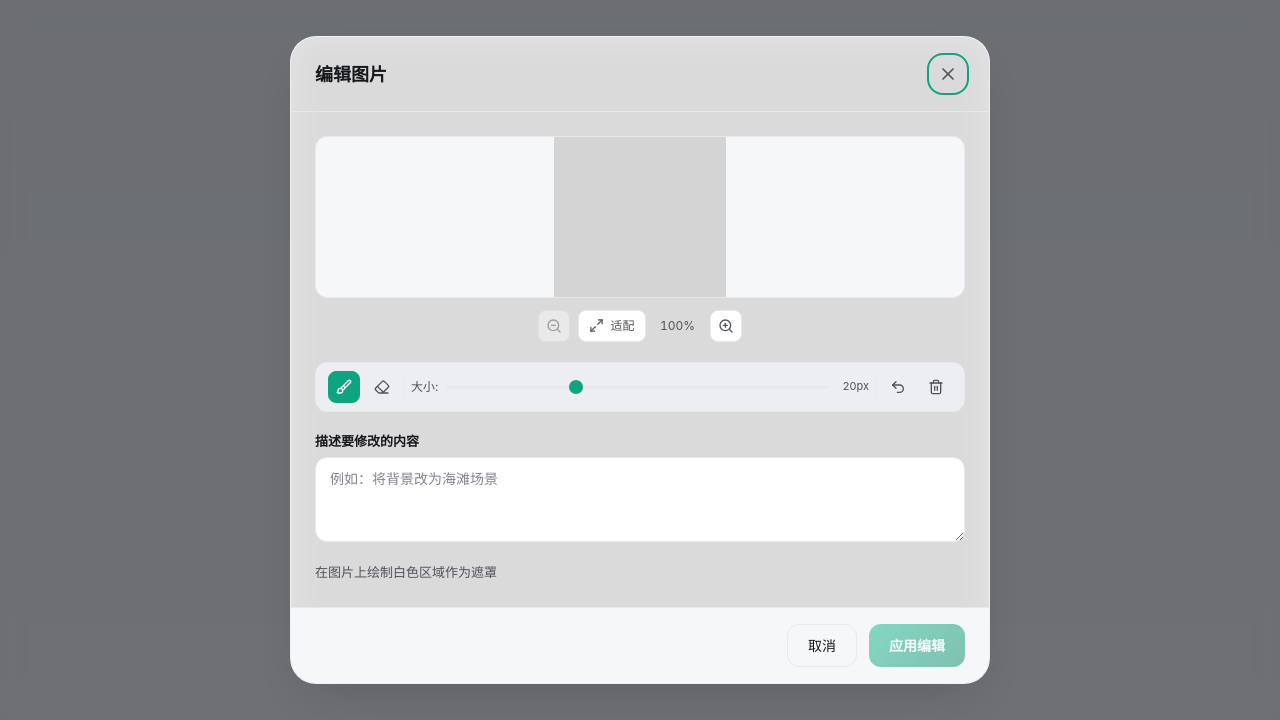
Test: ImageEditDialog image sizing › resets zoom to the fitted view
Click the button titled "放大" at (726, 326), box [710, 310, 742, 342]
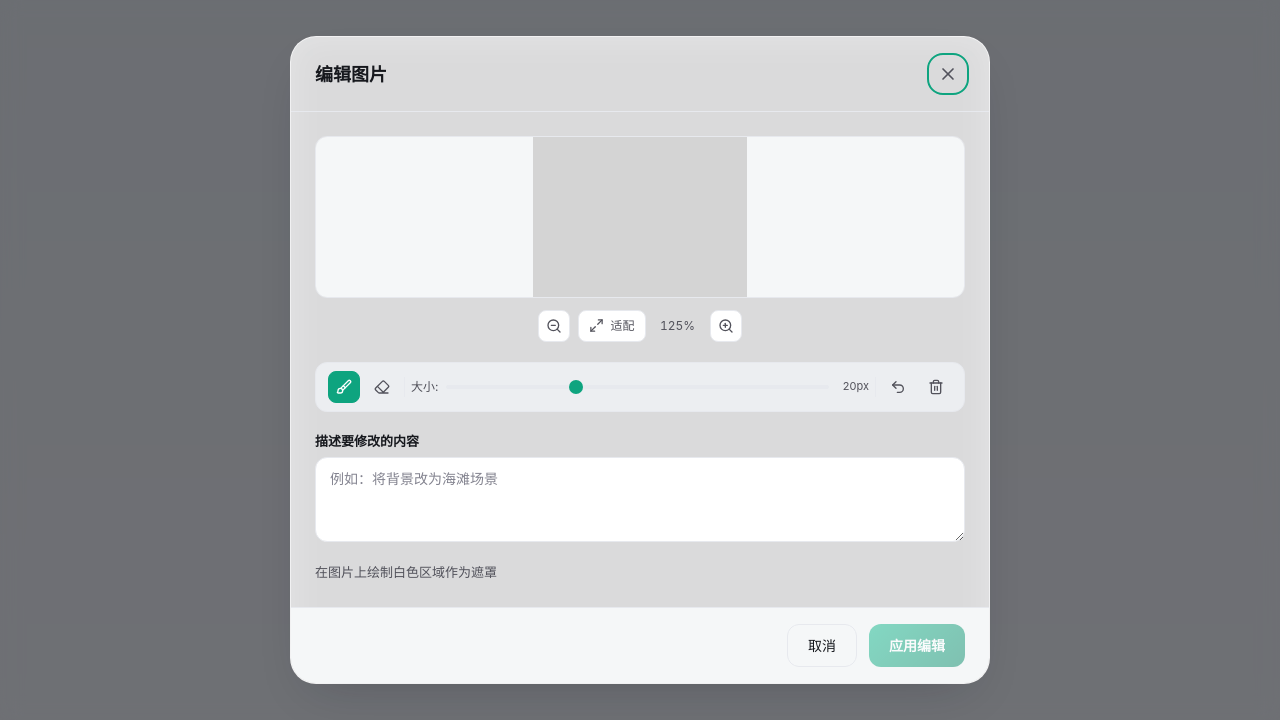
Click the button with class "zoom-fit-btn" at (612, 326), box [578, 310, 646, 342]
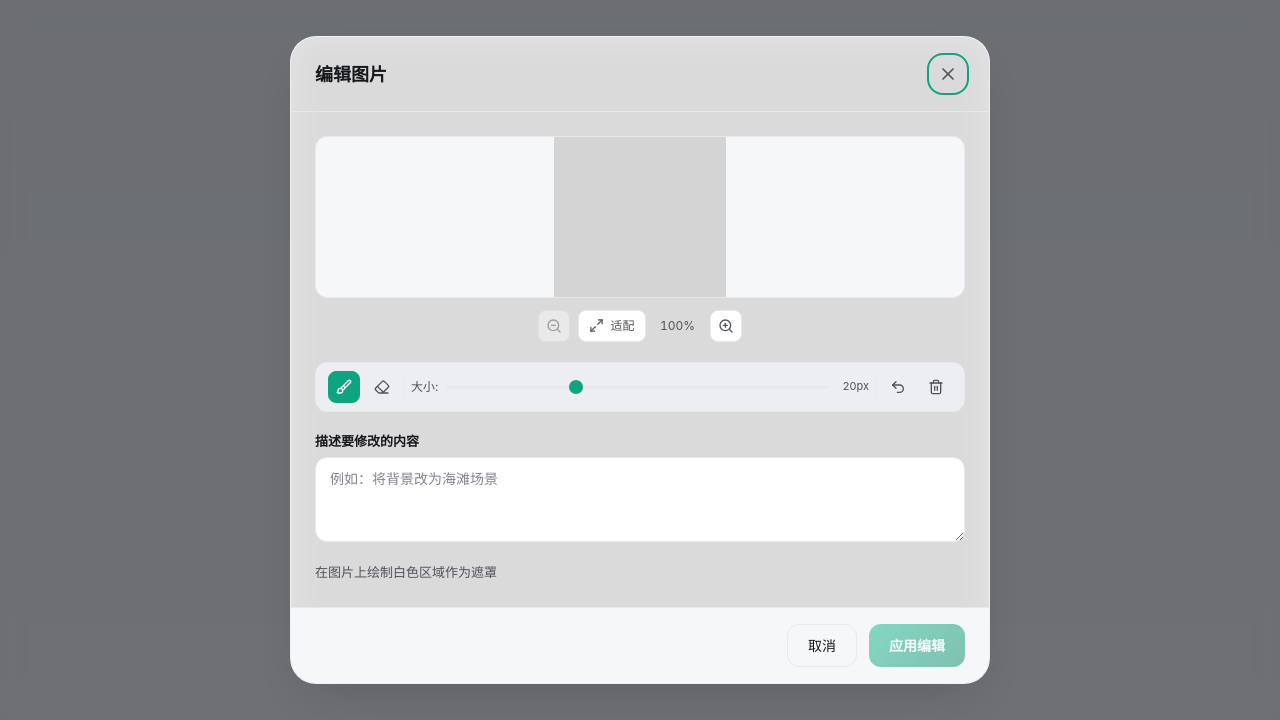
Check: the text with class "zoom-value" reads "100%", box [660, 318, 695, 333]
